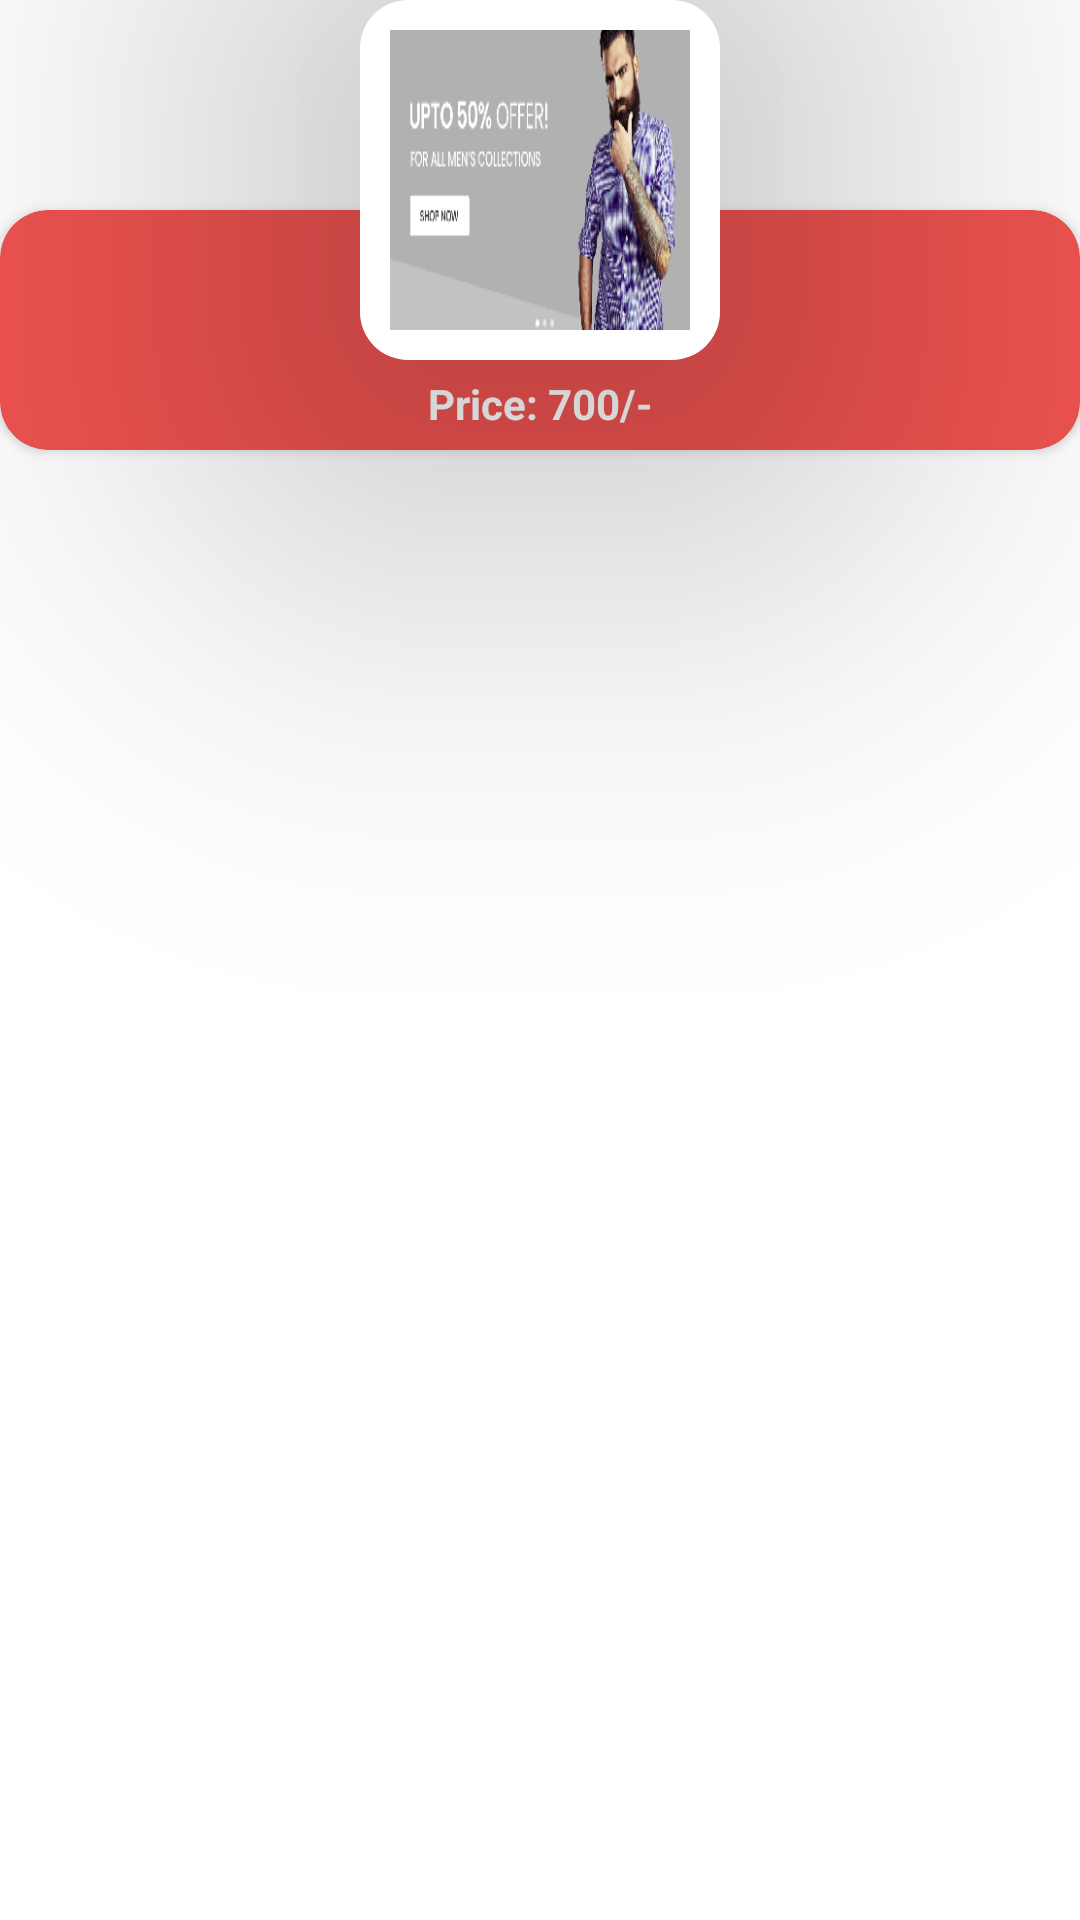

Named icons in this screenshot (1080px×1920px) and their bounding boxes, (x1, y1, x2, y2):
slider: (390, 30, 690, 330)
